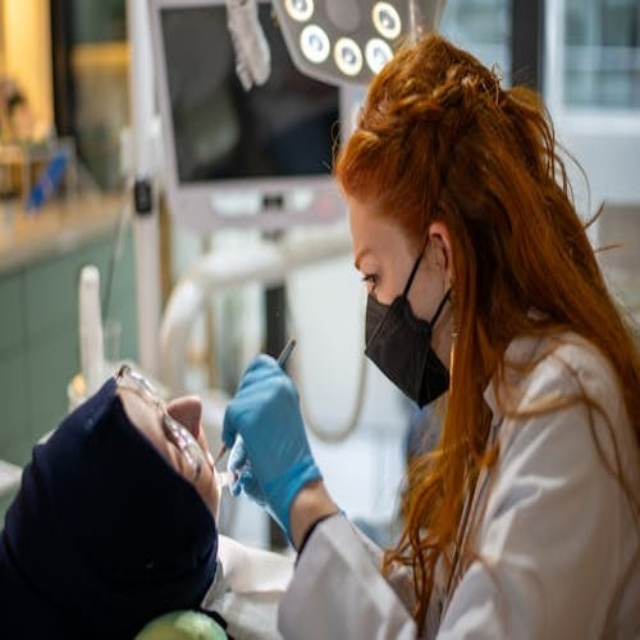Gafas: (114, 363, 205, 483)
Guantes: (219, 345, 324, 542)
Mascara: (364, 240, 455, 410)
Sin_gafas: (351, 232, 406, 289)
